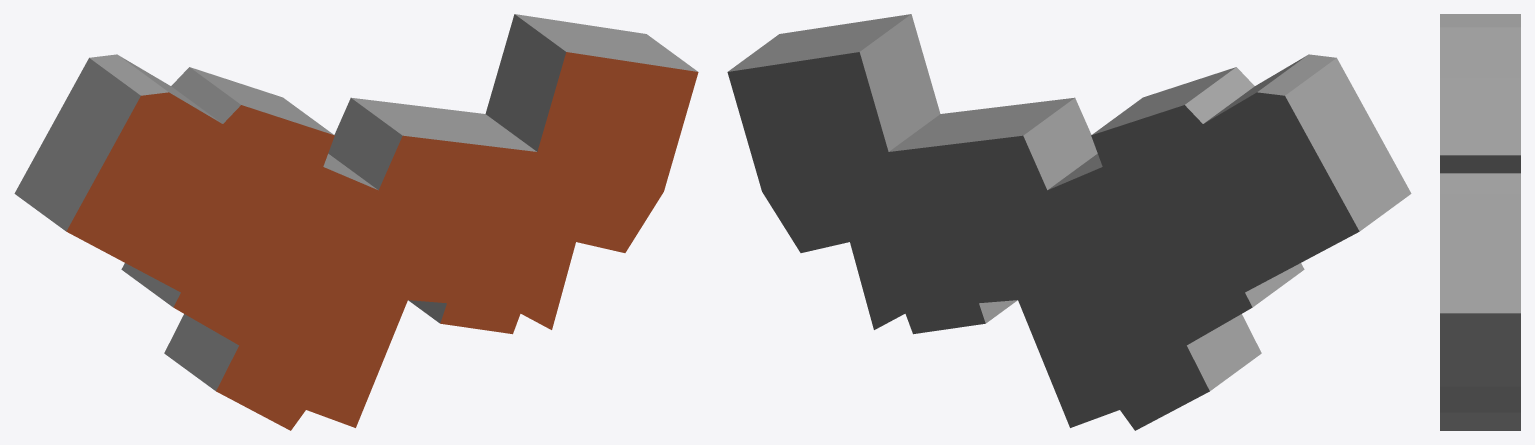
File: construction_4205_assumed_A_Casa_h6m.obj
3 views of the same model, side by side, from view 1: azimuth 30°, elevation 25°; view 2: azimuth 150°, elevation 25°; view 3: azimuth 270°, elevation 25° (orthographic). The views are drawn at different scales.
Parts seen in each view (by area): view 1: construction_4205_assumed_A_Casa; view 2: construction_4205_assumed_A_Casa; view 3: construction_4205_assumed_A_Casa.
Part boxes in pixels (left/top/right/bottom): construction_4205_assumed_A_Casa: left=14, top=14, right=698, bottom=430; construction_4205_assumed_A_Casa: left=727, top=14, right=1411, bottom=430; construction_4205_assumed_A_Casa: left=1440, top=14, right=1520, bottom=430.
Size of the model in its own units: 42.22 by 24.56 by 6.
